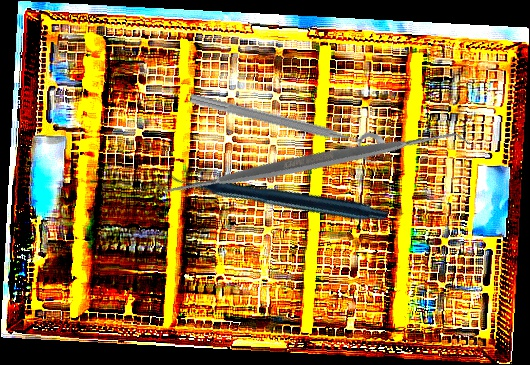Fixation Ring: (185, 88, 387, 167)
Handpiece: (163, 78, 392, 307)
Spatula Surgical: (152, 2, 472, 323)
